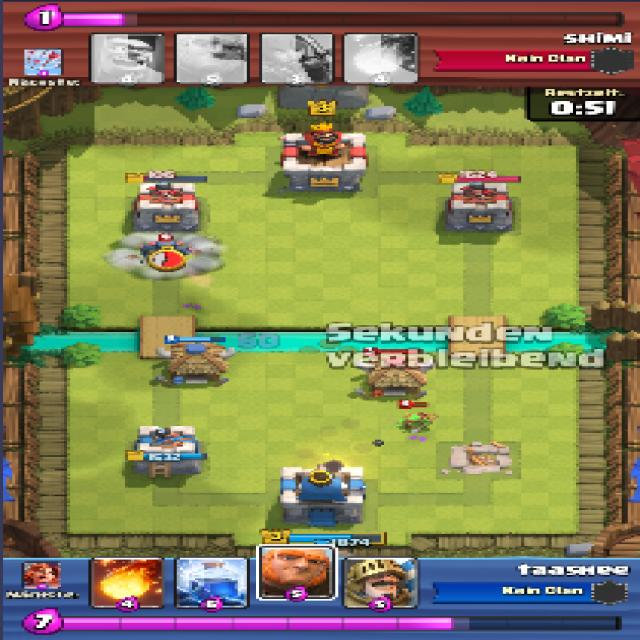Enemy-GoblinHut: (343, 352, 441, 398)
Enemy-MiniPEKKA: (139, 239, 192, 263)
Enemy-SpearGoblin: (397, 412, 436, 432)
Player-GoblinHut: (152, 342, 238, 386)
